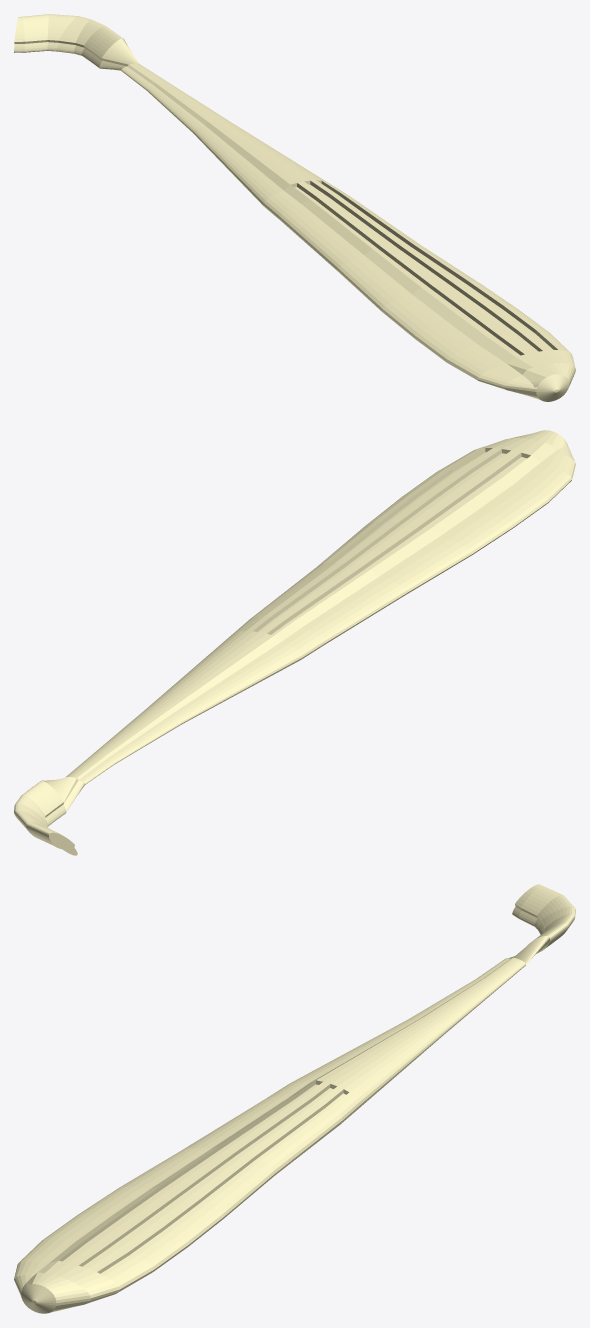
File: RaspatoriumOlivercronaBojd.fbx
The picture shows the model from 3 angles, top to bottom: view 1: azimuth 30°, elevation 25°; view 2: azimuth 150°, elevation 25°; view 3: azimuth 330°, elevation 25°; orthographic projection. The views are drawn at different scales.
Parts seen in each view (by area): view 1: Cylinder; view 2: Cylinder; view 3: Cylinder.
Boxes of the visible parts, x1,y1,x2,y2 form: Cylinder: (14,14,575,401); Cylinder: (14,430,575,855); Cylinder: (14,884,575,1313).
Size of the model in its own units: 55.33 by 13.23 by 457.
